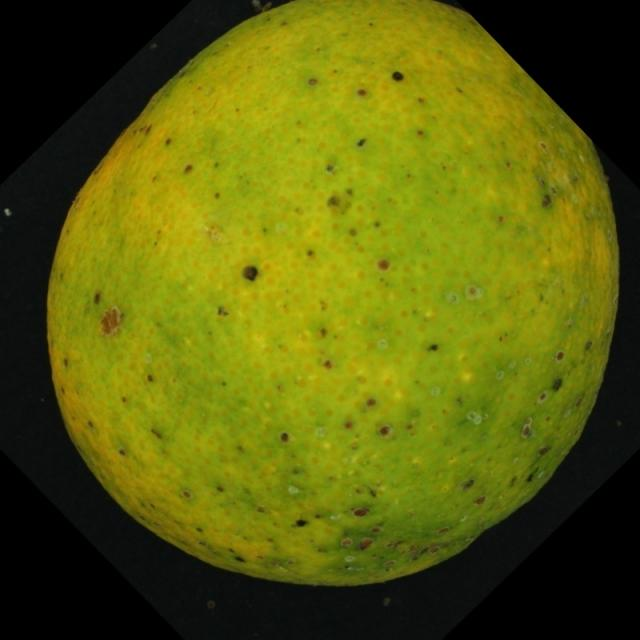grenning: (38, 4, 624, 585)
